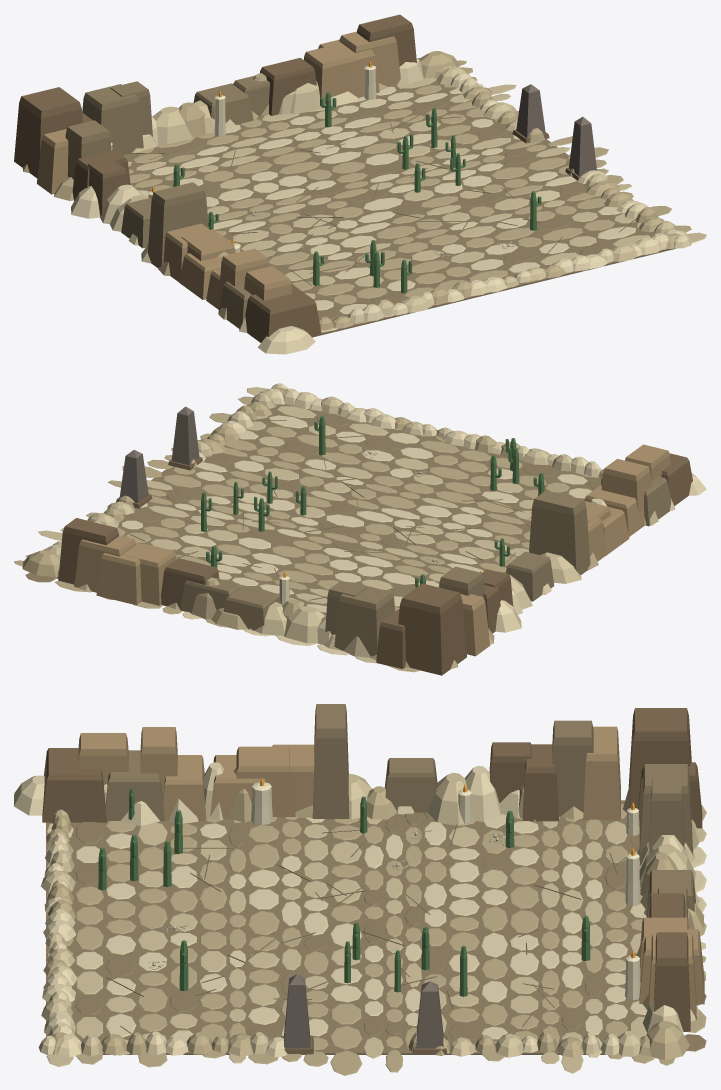
Rendered from stage.glb.
The picture shows the model from 3 angles, top to bottom: view 1: azimuth 30°, elevation 25°; view 2: azimuth 150°, elevation 25°; view 3: azimuth 270°, elevation 25°; orthographic projection. The views are drawn at different scales.
Parts seen in each view (by area): view 1: stage_floor, stage_walls, stage_props; view 2: stage_floor, stage_walls, stage_props; view 3: stage_floor, stage_walls, stage_props.
Boxes of the visible parts, box(x1,y1,x2,y2) form: stage_floor: box(123, 58, 706, 337); stage_walls: box(14, 14, 692, 354); stage_props: box(111, 61, 597, 293); stage_floor: box(14, 387, 600, 672); stage_walls: box(22, 383, 706, 675); stage_props: box(116, 406, 602, 604); stage_floor: box(46, 800, 706, 1075); stage_walls: box(14, 704, 704, 1059); stage_props: box(98, 778, 640, 1054).
Bounding box in the file's own units: 37.63 × 5.36 × 37.54.
